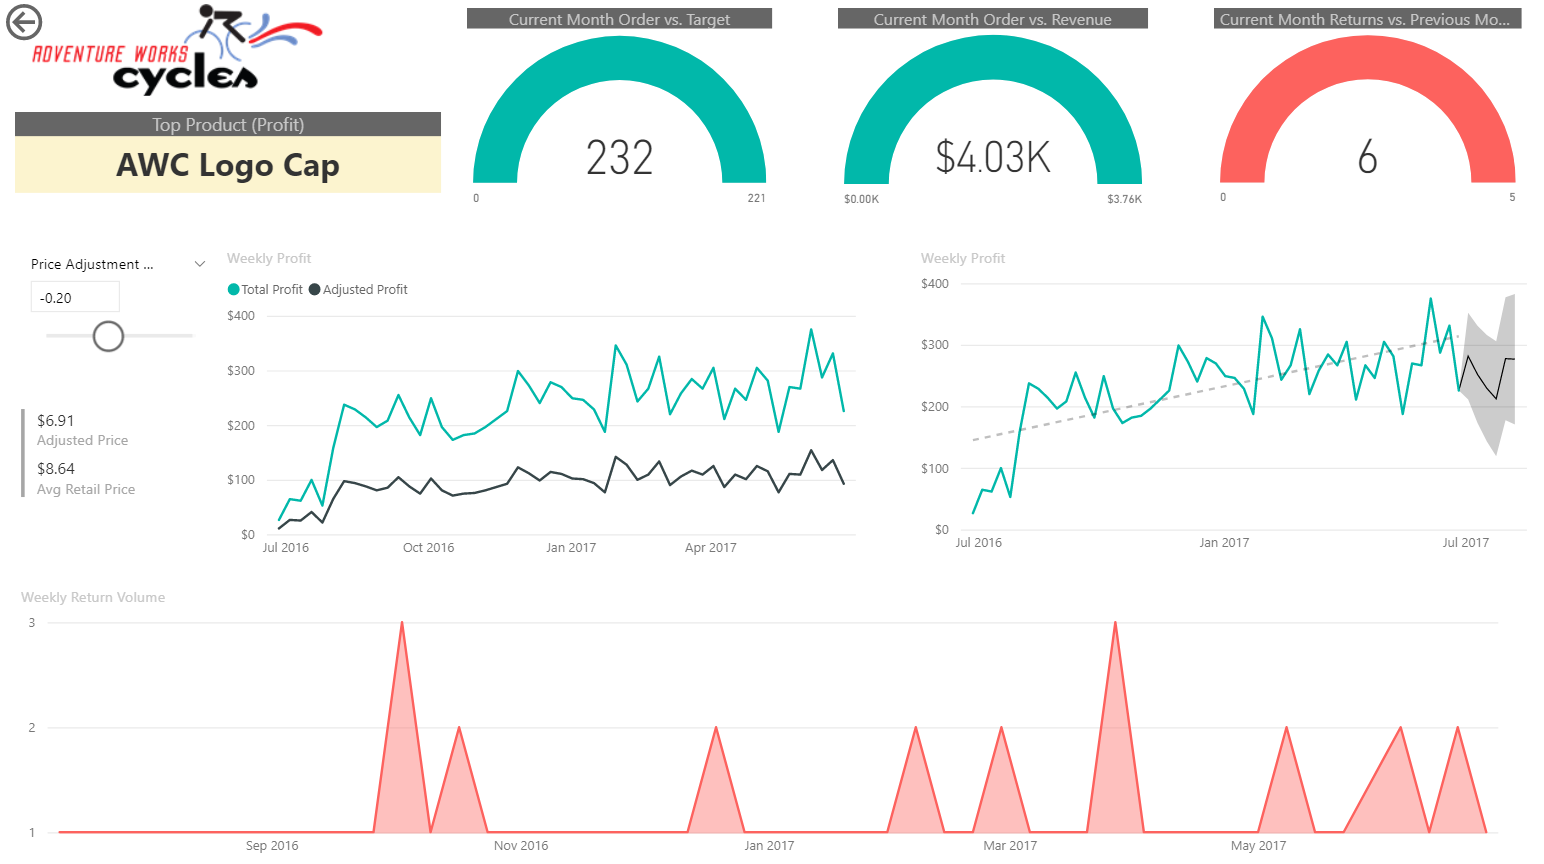

The page's visual inventory and layout, read from the dashboard file:
{"tool":"powerbi","page":{"name":"Product Detail","canvas":[1280,720],"ordinal":1},"visuals":[{"type":"image","box":[0,0,296.6,85.8],"z":0},{"type":"lineChart","title":"Weekly Profit","fields":{"Y":["AW_Sales.Total Profit"],"Category":["AW_Calendar_Lookup.Start of Week"]},"box":[757.8,206.6,522.2,262.9],"z":1000},{"type":"stackedAreaChart","title":"Weekly Return Volume","fields":{"Category":["AW_Calendar_Lookup.Start of Week"],"Y":["AW_Returns.Total Returns"]},"box":[12.3,487,1248.4,233],"z":2000},{"type":"gauge","title":"Current Month Order vs. Target","fields":{"Y":["AW_Sales.Total Orders"],"MaxValue":["AW_Sales.Order Target"]},"box":[387,8,253,171.6],"z":3000},{"type":"gauge","title":"Current Month Order vs. Revenue","fields":{"Y":["AW_Sales.Total Revenue"],"MaxValue":["AW_Sales.Revenue Target"]},"box":[694.6,8,256.5,171.6],"z":4000},{"type":"gauge","title":"Current Month Returns vs. Previous Month","fields":{"MaxValue":["AW_Returns.Prev Month Returns"],"Y":["AW_Returns.Total Returns"]},"box":[1005.7,8.2,254.9,171.4],"z":5000},{"type":"card","title":"Top Product (Profit)","fields":{"Values":["Min(AW_Product_Lookup.ProductName)"]},"box":[12.3,94.1,353.4,66.8],"z":6000},{"type":"actionButton","box":[0,0,100,40],"z":7000},{"type":"slicer","fields":{"Values":["Price Adjustment (%).Price Adjustment (%)"]},"box":[12.3,206.6,170.5,117.8],"z":8000},{"type":"multiRowCard","fields":{"Values":["AW_Product_Lookup.Adjusted Price","AW_Product_Lookup.Avg Retail Price"]},"box":[12.3,335.8,170.5,133.6],"z":9000},{"type":"lineChart","title":"Weekly Profit","fields":{"Y":["AW_Sales.Total Profit","AW_Sales.Adjusted Profit"],"Category":["AW_Calendar_Lookup.Start of Week"]},"box":[183,206.3,542.7,267.3],"z":10000}]}

Visuals, with their boxes in screenshot pixels (x1, y1, x2, y2), scaled from the page's 1280x720 canvas onto the 1544x864 screenshot:
image: <bbox>0, 0, 358, 103</bbox>
"Weekly Profit" lineChart: <bbox>914, 248, 1543, 563</bbox>
"Weekly Return Volume" stackedAreaChart: <bbox>15, 584, 1521, 863</bbox>
"Current Month Order vs. Target" gauge: <bbox>467, 10, 772, 216</bbox>
"Current Month Order vs. Revenue" gauge: <bbox>838, 10, 1147, 216</bbox>
"Current Month Returns vs. Previous Month" gauge: <bbox>1213, 10, 1521, 216</bbox>
"Top Product (Profit)" card: <bbox>15, 113, 441, 193</bbox>
actionButton: <bbox>0, 0, 121, 48</bbox>
slicer - Price Adjustment (%).Price Adjustment (%): <bbox>15, 248, 221, 389</bbox>
multiRowCard - AW_Product_Lookup.Adjusted Price x AW_Product_Lookup.Avg Retail Price: <bbox>15, 403, 221, 563</bbox>
"Weekly Profit" lineChart: <bbox>221, 248, 875, 568</bbox>
